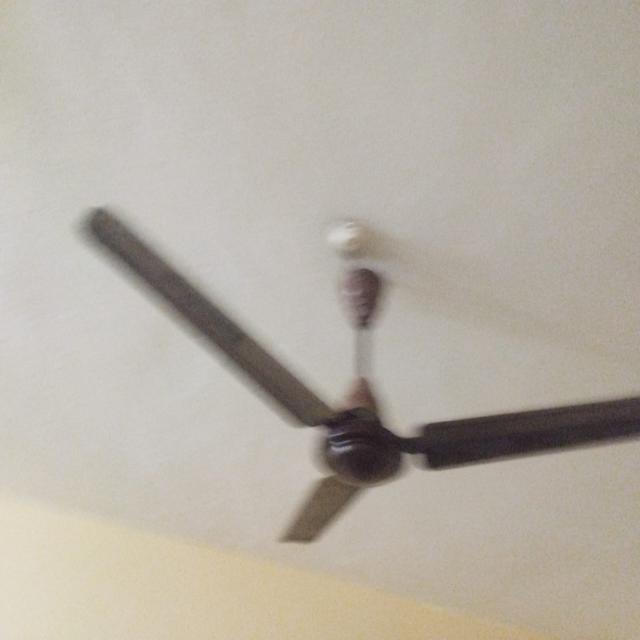fan_off: (90, 209, 640, 544)
